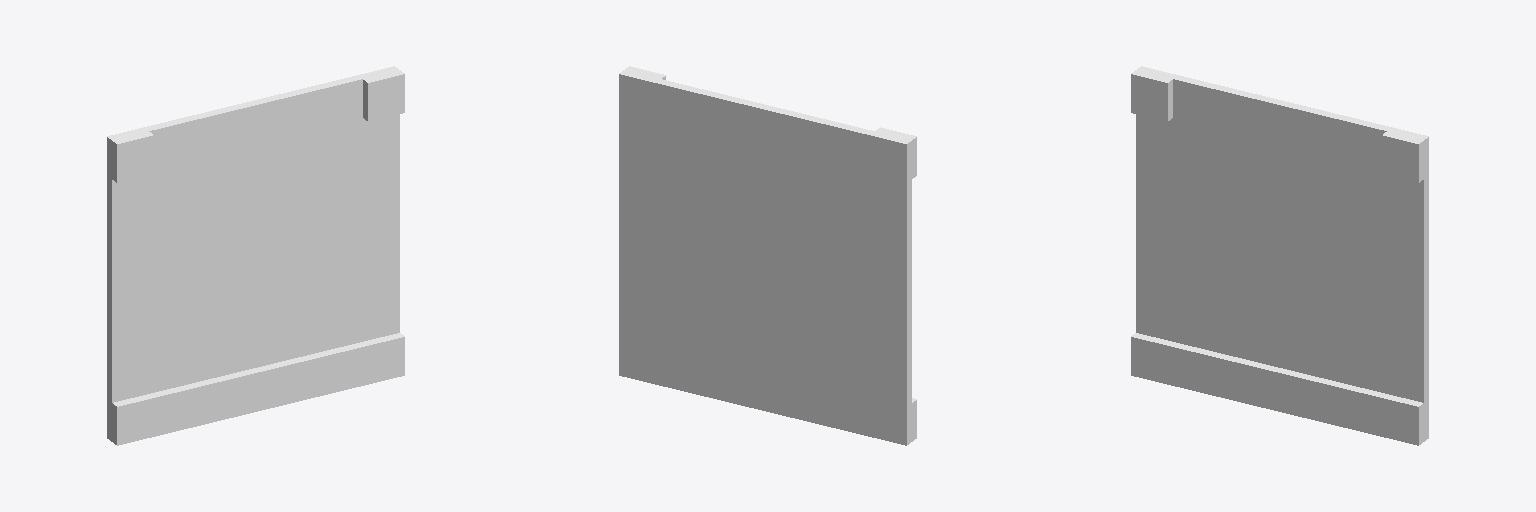
Rendered from CrossWithSidewalk.obj.
3 renders of one model, left to right at view 1: azimuth 30°, elevation 25°; view 2: azimuth 150°, elevation 25°; view 3: azimuth 330°, elevation 25°, orthographic.
Parts seen in each view (by area): view 1: CrossWithSidewalk; view 2: CrossWithSidewalk; view 3: CrossWithSidewalk.
Part boxes in pixels (left/top/right/bottom): CrossWithSidewalk: left=107, top=66, right=404, bottom=445; CrossWithSidewalk: left=619, top=66, right=916, bottom=445; CrossWithSidewalk: left=1131, top=66, right=1428, bottom=445.
Bounding box in the file's own units: 31 × 31 × 2.